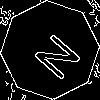N: (25, 25, 83, 83)
